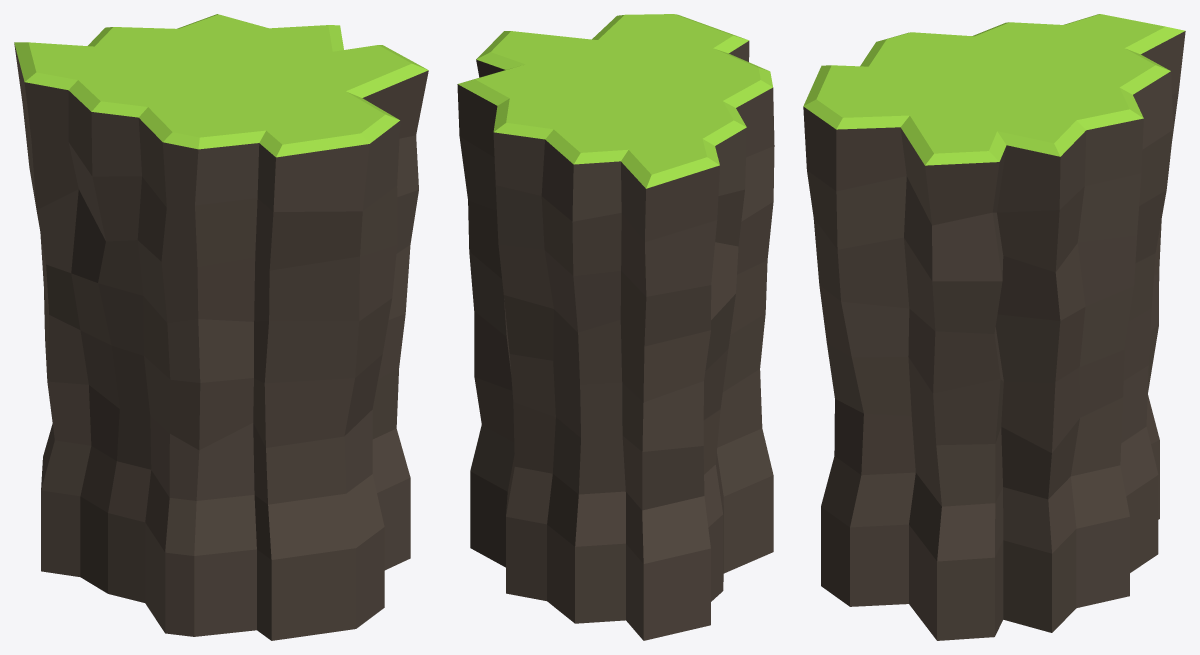
The model's file is Cliff2.fbx.
3 views of the same model, side by side, from view 1: azimuth 30°, elevation 25°; view 2: azimuth 150°, elevation 25°; view 3: azimuth 270°, elevation 25° (orthographic). The views are drawn at different scales.
Parts seen in each view (by area): view 1: Cliff2; view 2: Cliff2; view 3: Cliff2.
Part boxes in pixels (box(x1,y1,x2,y2)): Cliff2: box(14, 14, 428, 640); Cliff2: box(457, 14, 774, 640); Cliff2: box(803, 14, 1185, 640).
Bounding box in the file's own units: 12.54 × 18.89 × 13.39.
